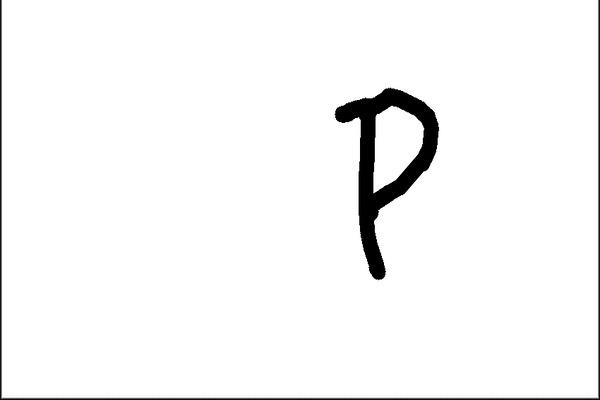P: (320, 77, 451, 290)
